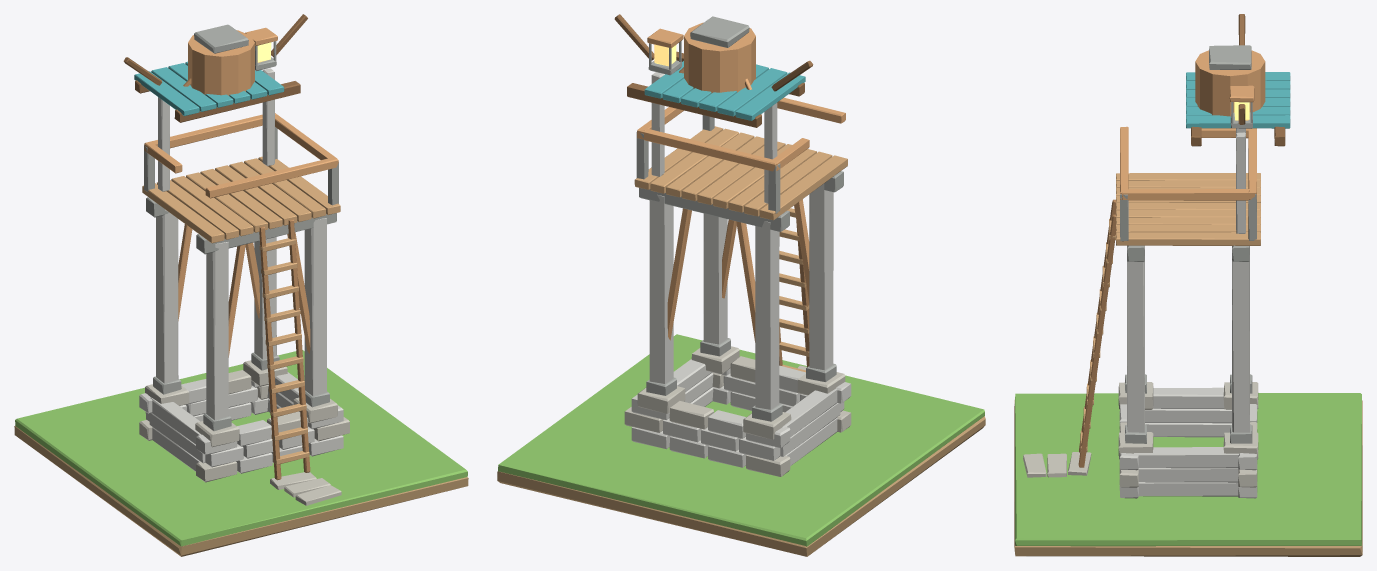
Rendered from tower_l05_active_LOD1.glb.
3 renders of one model, left to right at view 1: azimuth 30°, elevation 25°; view 2: azimuth 150°, elevation 25°; view 3: azimuth 270°, elevation 25°, orthographic. The views are drawn at different scales.
Visible parts, largest first — view 1: tower_l05_grass_tile_tower_l05_active_LOD1_tmp, tower_l05_earth_tile_tower_l05_active_LOD1_tmp, post_-0.61_-0.54_tower_l05_active_LOD1_tmp, post_-0.61_0.54_tower_l05_active_LOD1_tmp, post_0.61_-0.54_tower_l05_active_LOD1_tmp, relay_drum_tower_l05_active_LOD1_tmp, balcony_rail_-0.66_tower_l05_active_LOD1_tmp, post_0.61_0.54_tower_l05_active_LOD1_tmp, ladder_rail_-0.18_tower_l05_active_LOD1_tmp, ladder_rail_0.18_tower_l05_active_LOD1_tmp, deck_board_0_tower_l05_active_LOD1_tmp, deck_bearer_-0.54_tower_l05_active_LOD1_tmp (+29 smaller); view 2: tower_l05_grass_tile_tower_l05_active_LOD1_tmp, tower_l05_earth_tile_tower_l05_active_LOD1_tmp, post_-0.61_0.54_tower_l05_active_LOD1_tmp, post_-0.61_-0.54_tower_l05_active_LOD1_tmp, post_0.61_0.54_tower_l05_active_LOD1_tmp, relay_drum_tower_l05_active_LOD1_tmp, post_0.61_-0.54_tower_l05_active_LOD1_tmp, balcony_rail_0.66_tower_l05_active_LOD1_tmp, deck_bearer_0.54_tower_l05_active_LOD1_tmp, deck_board_0_tower_l05_active_LOD1_tmp, stone_return_2_-0.72_tower_l05_active_LOD1_tmp, relay_drum_cover_tower_l05_active_LOD1_tmp (+31 smaller); view 3: tower_l05_grass_tile_tower_l05_active_LOD1_tmp, tower_l05_earth_tile_tower_l05_active_LOD1_tmp, post_0.61_-0.54_tower_l05_active_LOD1_tmp, post_0.61_0.54_tower_l05_active_LOD1_tmp, relay_drum_tower_l05_active_LOD1_tmp, stone_return_2_0.72_tower_l05_active_LOD1_tmp, deck_board_8_tower_l05_active_LOD1_tmp, ladder_rail_0.18_tower_l05_active_LOD1_tmp, balcony_side_rail_tower_l05_active_LOD1_tmp, stone_return_0_0.72_tower_l05_active_LOD1_tmp, stone_return_1_0.72_tower_l05_active_LOD1_tmp, stone_return_2_-0.72_tower_l05_active_LOD1_tmp (+18 smaller).
Boxes of the visible parts, left/top/right/bottom form: tower_l05_grass_tile_tower_l05_active_LOD1_tmp: left=15, top=350, right=467, bottom=546; tower_l05_earth_tile_tower_l05_active_LOD1_tmp: left=14, top=426, right=468, bottom=556; post_-0.61_-0.54_tower_l05_active_LOD1_tmp: left=206, top=242, right=228, bottom=420; post_-0.61_0.54_tower_l05_active_LOD1_tmp: left=156, top=209, right=178, bottom=383; post_0.61_-0.54_tower_l05_active_LOD1_tmp: left=304, top=218, right=326, bottom=396; relay_drum_tower_l05_active_LOD1_tmp: left=188, top=30, right=254, bottom=95; balcony_rail_-0.66_tower_l05_active_LOD1_tmp: left=205, top=158, right=338, bottom=198; post_0.61_0.54_tower_l05_active_LOD1_tmp: left=254, top=237, right=276, bottom=359; ladder_rail_-0.18_tower_l05_active_LOD1_tmp: left=259, top=226, right=281, bottom=480; ladder_rail_0.18_tower_l05_active_LOD1_tmp: left=288, top=219, right=310, bottom=472; deck_board_0_tower_l05_active_LOD1_tmp: left=142, top=183, right=224, bottom=243; deck_bearer_-0.54_tower_l05_active_LOD1_tmp: left=196, top=213, right=336, bottom=254; tower_l05_grass_tile_tower_l05_active_LOD1_tmp: left=498, top=334, right=984, bottom=546; tower_l05_earth_tile_tower_l05_active_LOD1_tmp: left=497, top=416, right=985, bottom=556; post_-0.61_0.54_tower_l05_active_LOD1_tmp: left=755, top=221, right=779, bottom=409; post_-0.61_-0.54_tower_l05_active_LOD1_tmp: left=809, top=183, right=833, bottom=370; post_0.61_0.54_tower_l05_active_LOD1_tmp: left=649, top=194, right=673, bottom=383; relay_drum_tower_l05_active_LOD1_tmp: left=684, top=22, right=755, bottom=93; post_0.61_-0.54_tower_l05_active_LOD1_tmp: left=703, top=213, right=727, bottom=344; balcony_rail_0.66_tower_l05_active_LOD1_tmp: left=637, top=127, right=776, bottom=171; deck_bearer_0.54_tower_l05_active_LOD1_tmp: left=639, top=188, right=789, bottom=231; deck_board_0_tower_l05_active_LOD1_tmp: left=759, top=155, right=847, bottom=220; stone_return_2_-0.72_tower_l05_active_LOD1_tmp: left=782, top=388, right=837, bottom=436; relay_drum_cover_tower_l05_active_LOD1_tmp: left=690, top=16, right=749, bottom=47; tower_l05_grass_tile_tower_l05_active_LOD1_tmp: left=1015, top=393, right=1361, bottom=546; tower_l05_earth_tile_tower_l05_active_LOD1_tmp: left=1014, top=400, right=1362, bottom=556; post_0.61_-0.54_tower_l05_active_LOD1_tmp: left=1127, top=245, right=1144, bottom=432; post_0.61_0.54_tower_l05_active_LOD1_tmp: left=1232, top=246, right=1249, bottom=432; relay_drum_tower_l05_active_LOD1_tmp: left=1195, top=50, right=1265, bottom=116; stone_return_2_0.72_tower_l05_active_LOD1_tmp: left=1133, top=447, right=1238, bottom=468; deck_board_8_tower_l05_active_LOD1_tmp: left=1116, top=232, right=1260, bottom=245; ladder_rail_0.18_tower_l05_active_LOD1_tmp: left=1078, top=214, right=1115, bottom=467; balcony_side_rail_tower_l05_active_LOD1_tmp: left=1121, top=189, right=1254, bottom=200; stone_return_0_0.72_tower_l05_active_LOD1_tmp: left=1138, top=482, right=1238, bottom=496; stone_return_1_0.72_tower_l05_active_LOD1_tmp: left=1138, top=468, right=1238, bottom=482; stone_return_2_-0.72_tower_l05_active_LOD1_tmp: left=1153, top=387, right=1224, bottom=408.
Size of the model in its own units: 3.6 by 4.89 by 3.58.
